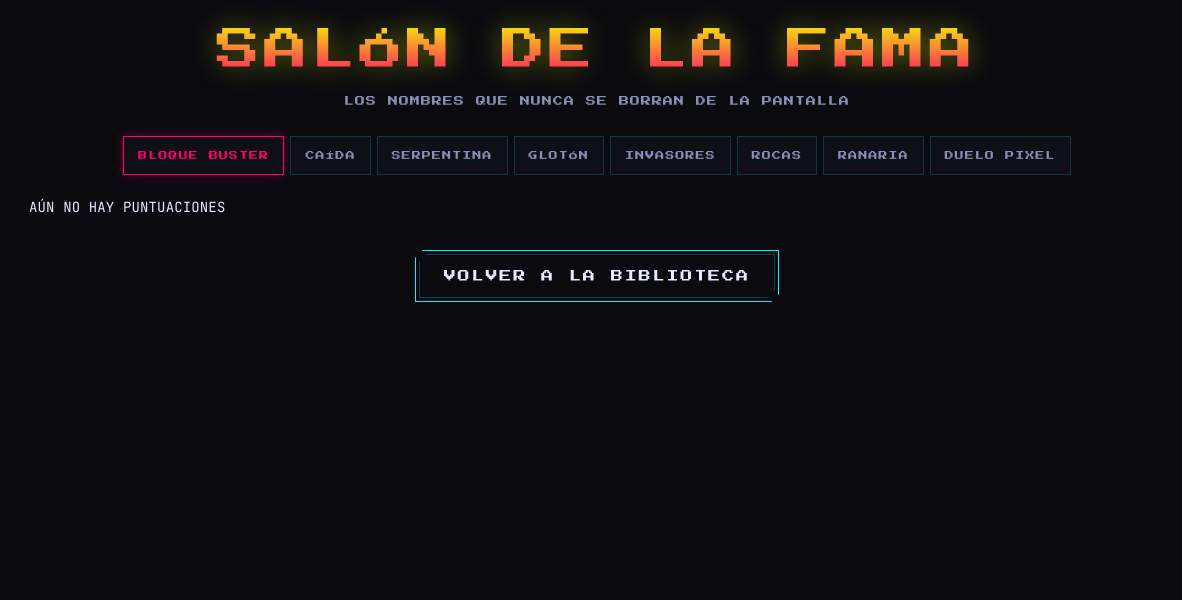
it: LeaderboardScreen › shows only the gold slot when there is a single row
Click the button "ROCAS": coordinates (777, 155) x1=737 y1=136 x2=817 y2=175
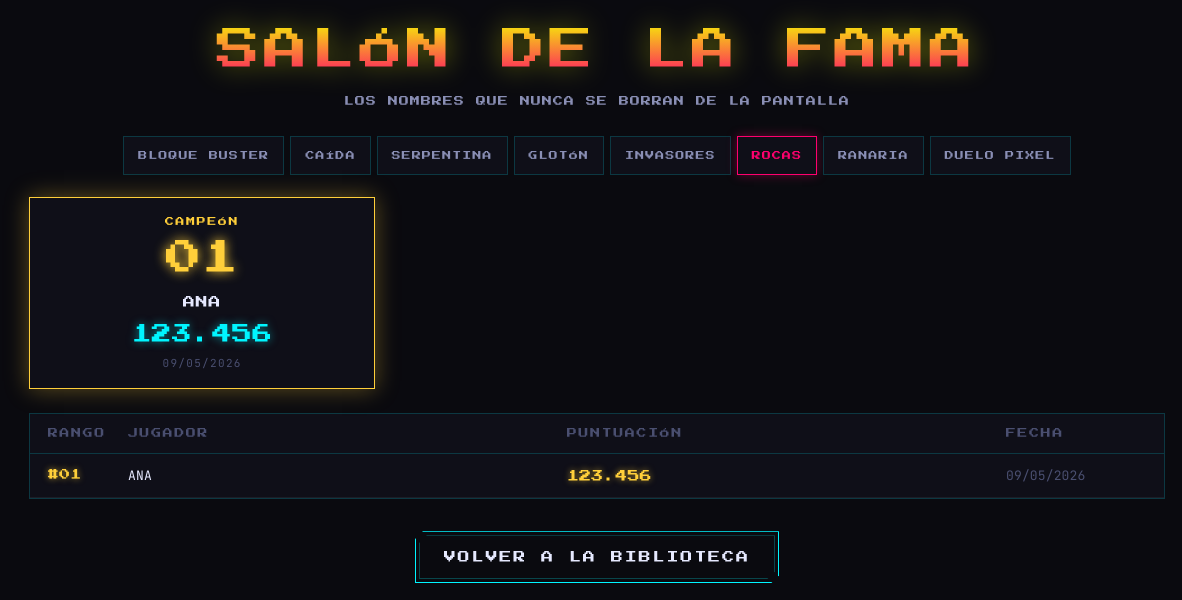
Expected: the text "ANA" below "CAMPEÓN" is shown, x1=183 y1=296 x2=221 y2=308
